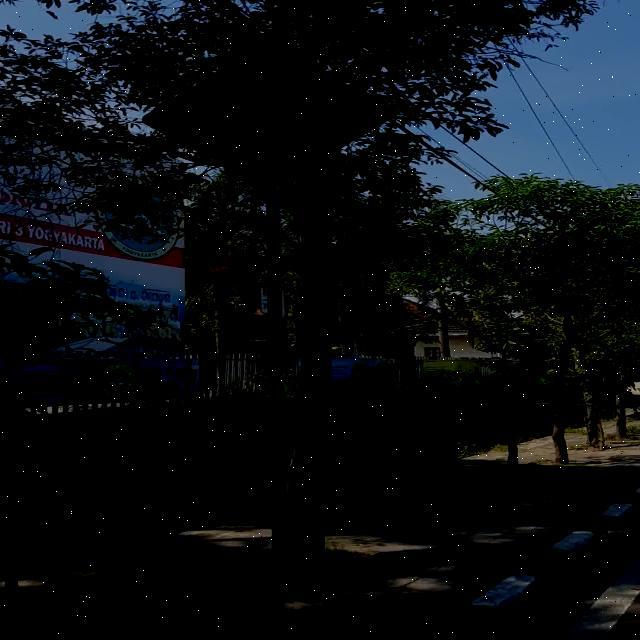Hati-Hati: (142, 46, 395, 188)
